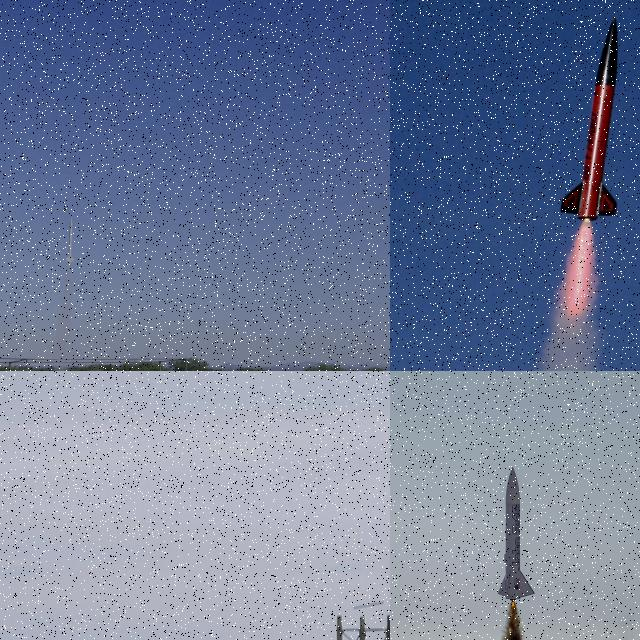Rocket: (558, 16, 621, 222), (497, 466, 537, 601), (65, 218, 76, 264)
